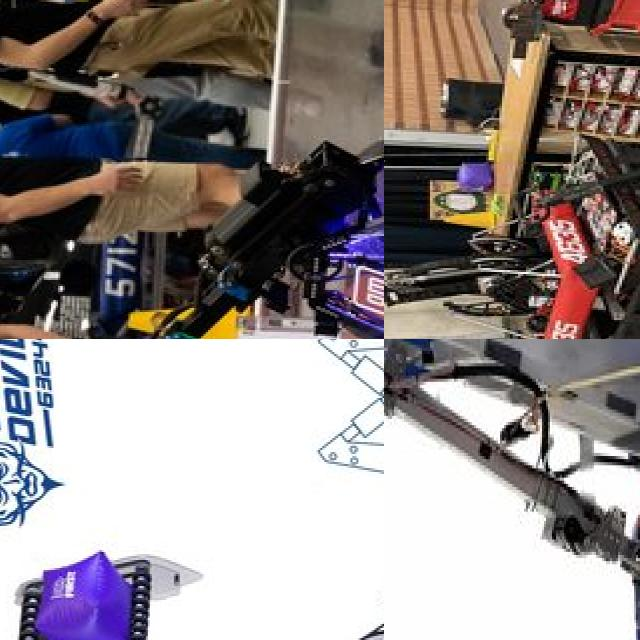FRC-Robots: (0, 28, 384, 339), (384, 339, 640, 640), (0, 461, 384, 640), (384, 186, 598, 339)
